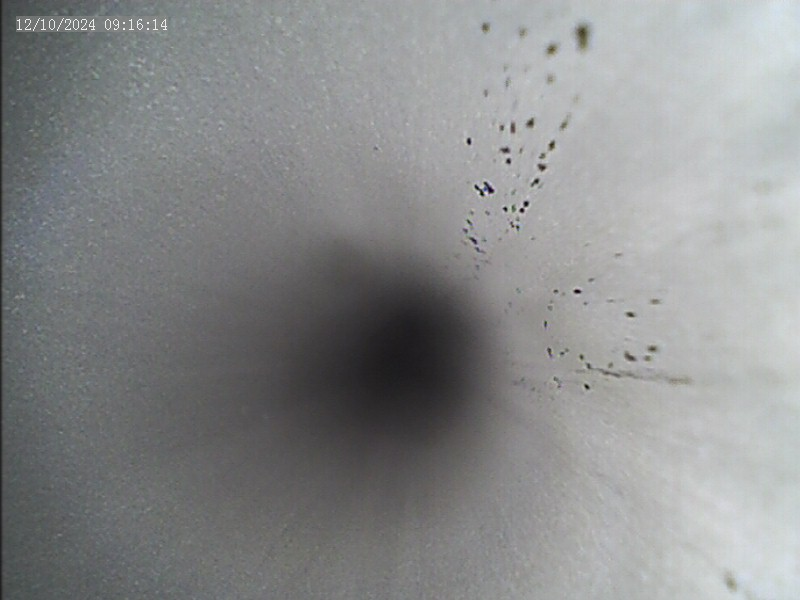defective_area: (460, 17, 672, 391)
